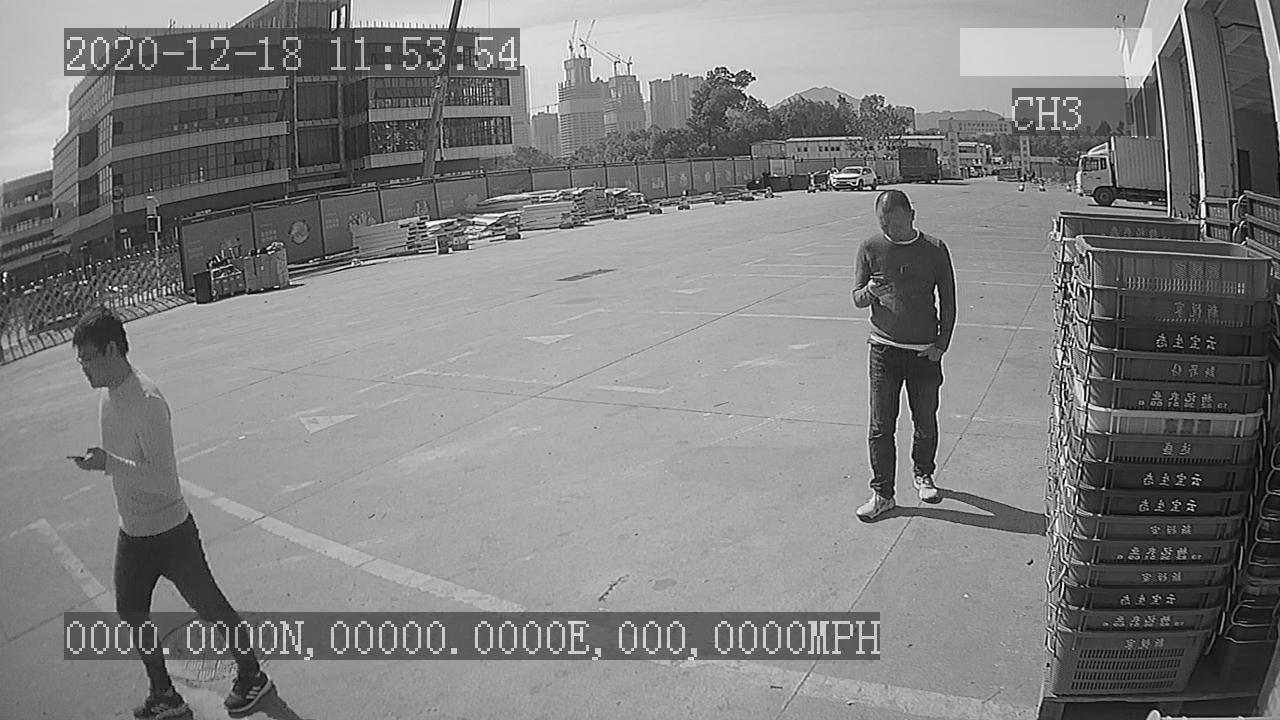person: (836, 186, 965, 535)
